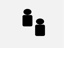human: (21, 8, 34, 27), (34, 17, 45, 36)
